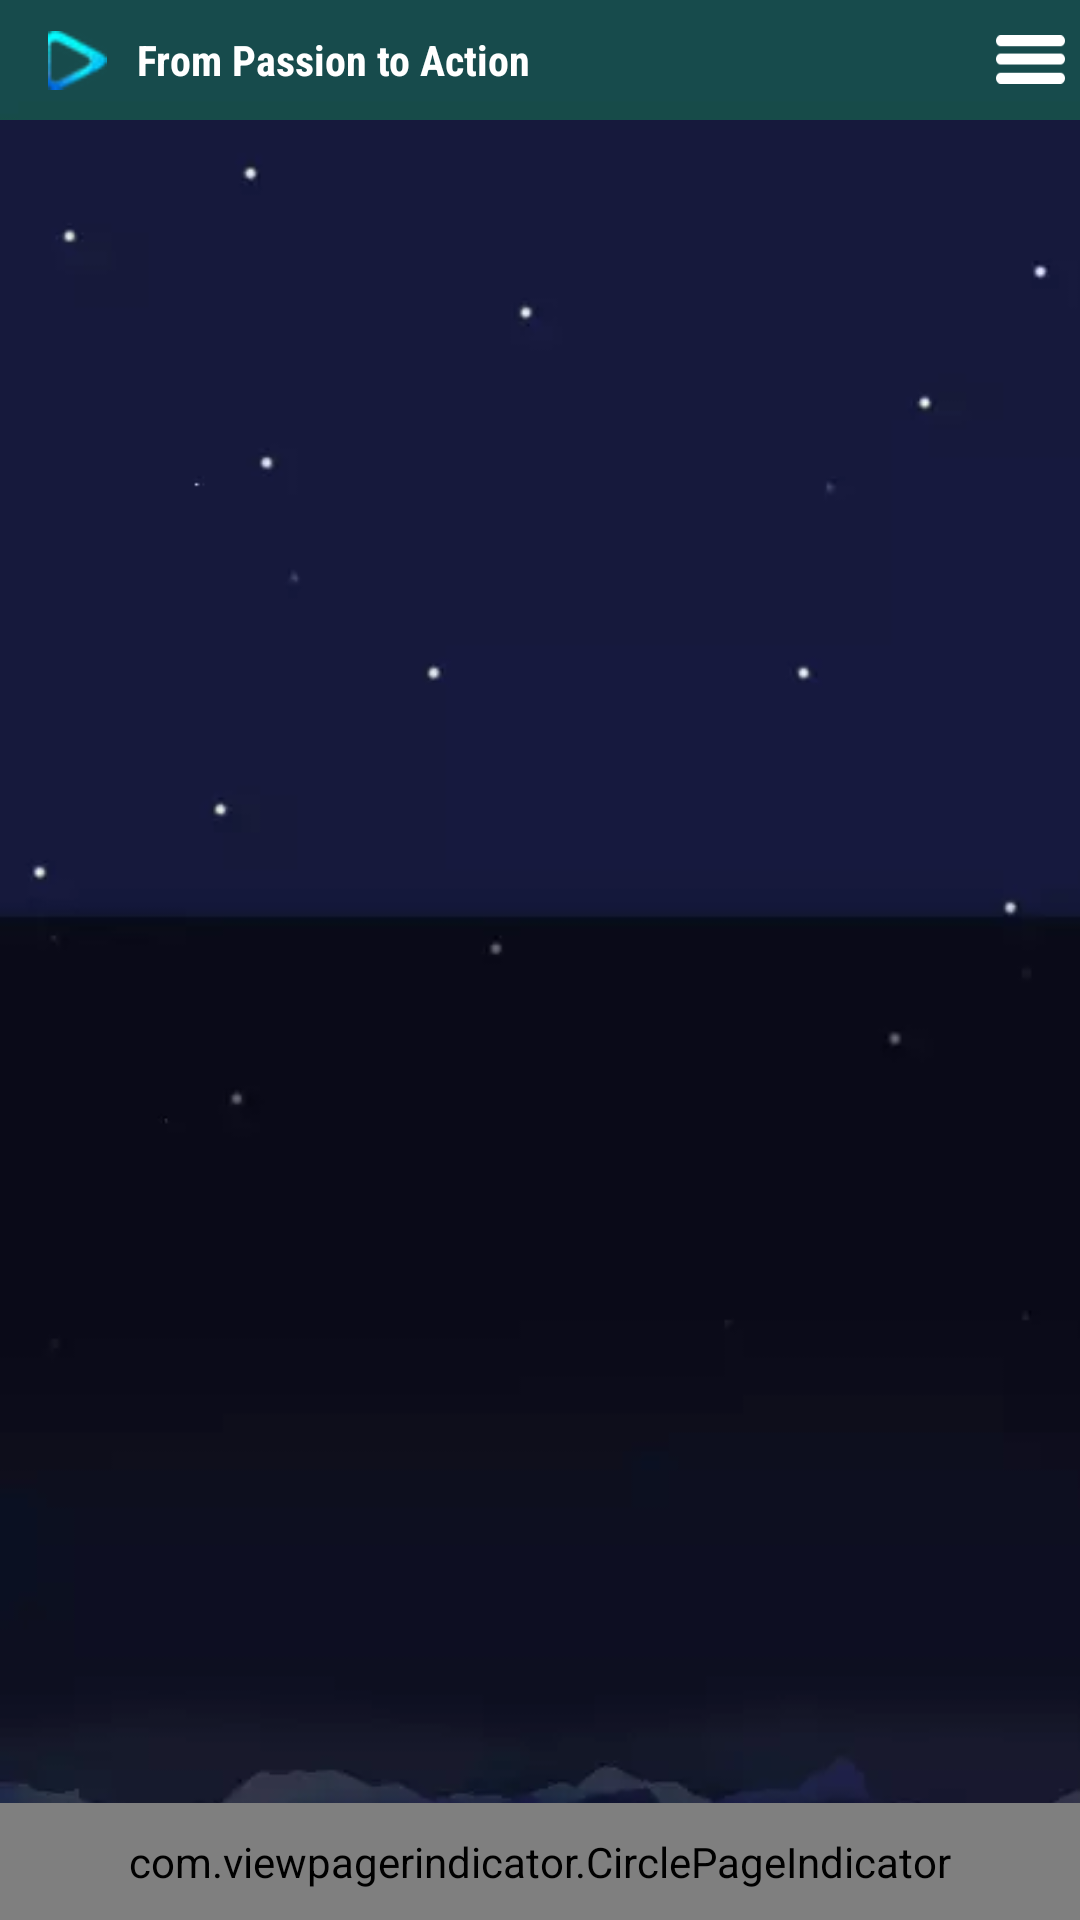

Screen size 1080×1920. Icon name, then its center in pixels as (x=x, y=y):
iconmenunavigasi: (x=1030, y=59)
